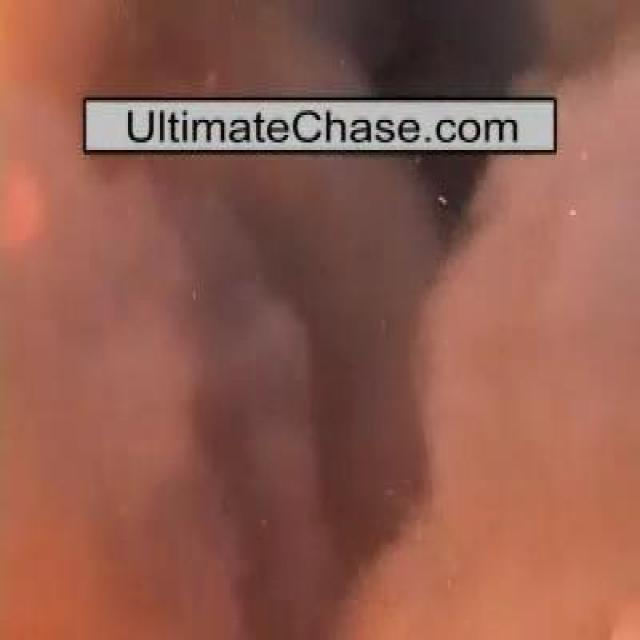Smoke: (56, 178, 578, 578)
